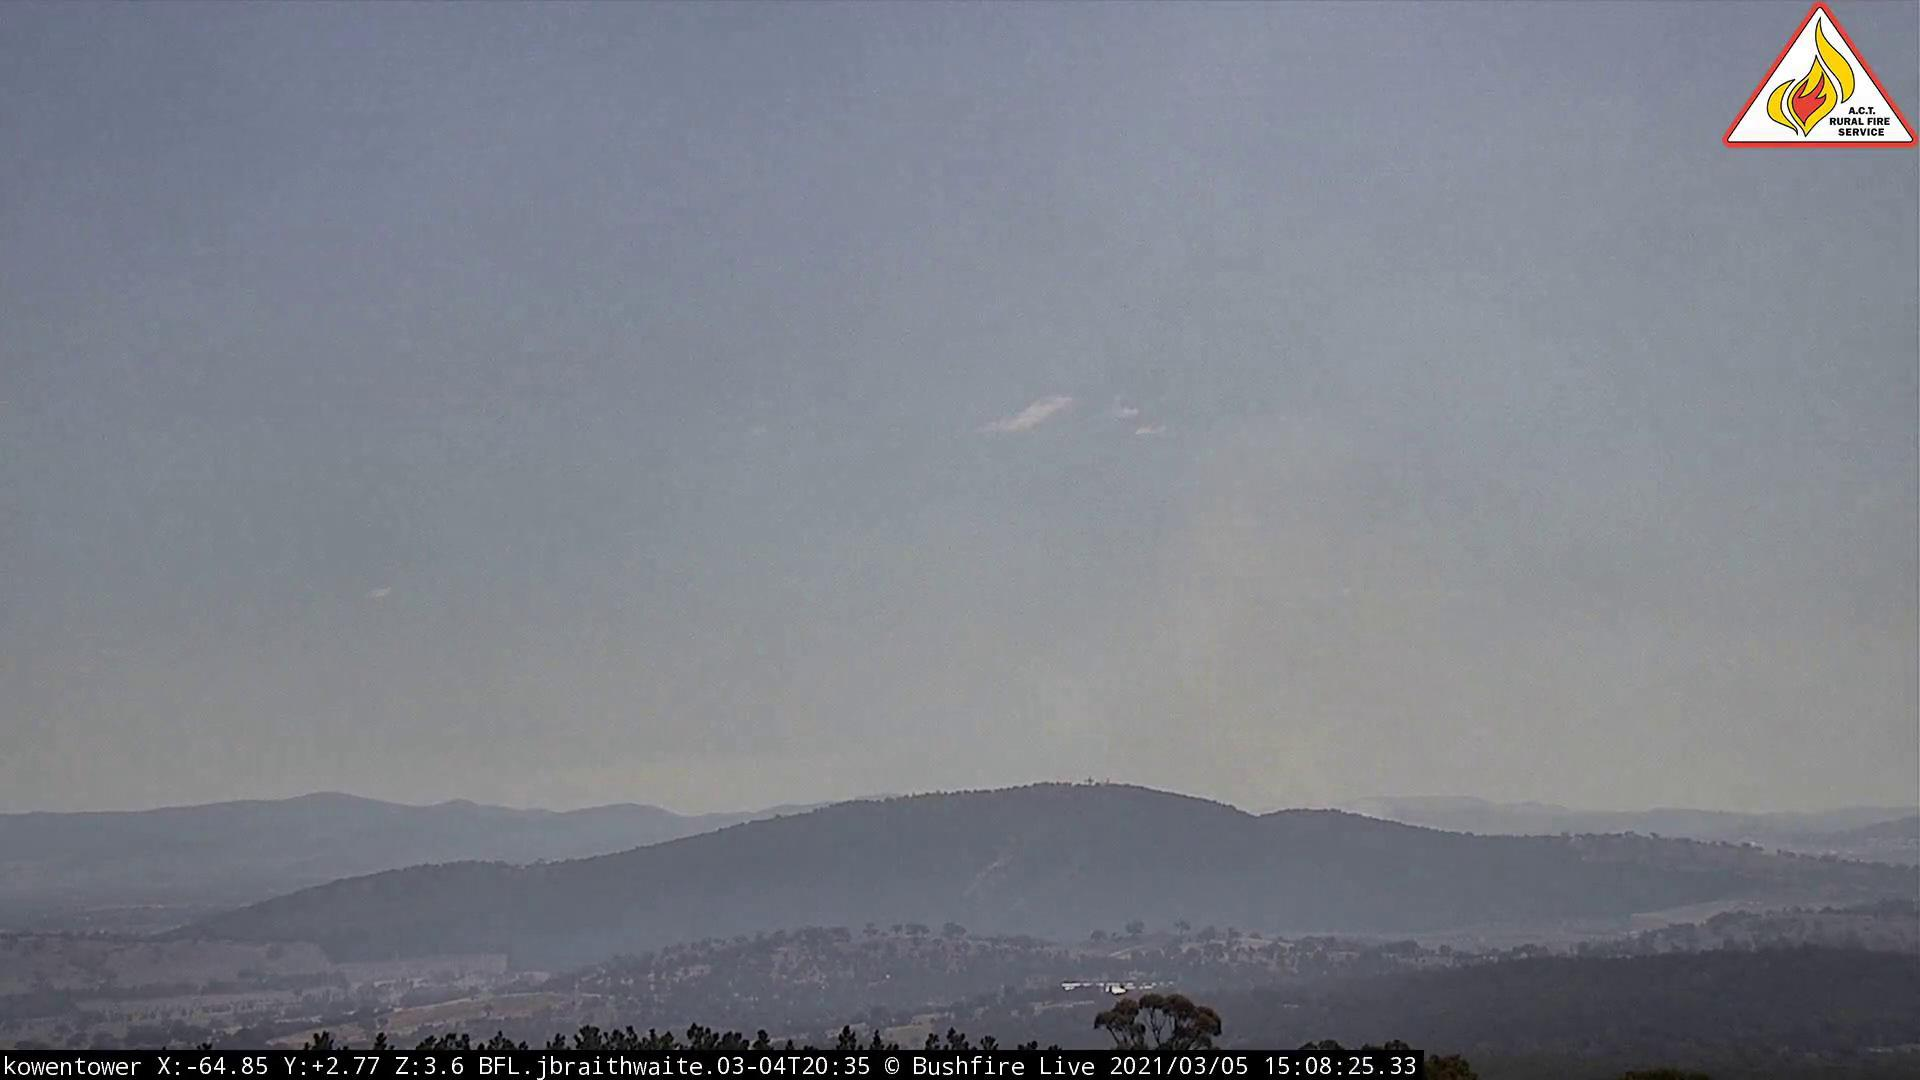instance_salient_object: (967, 425, 1565, 847)
